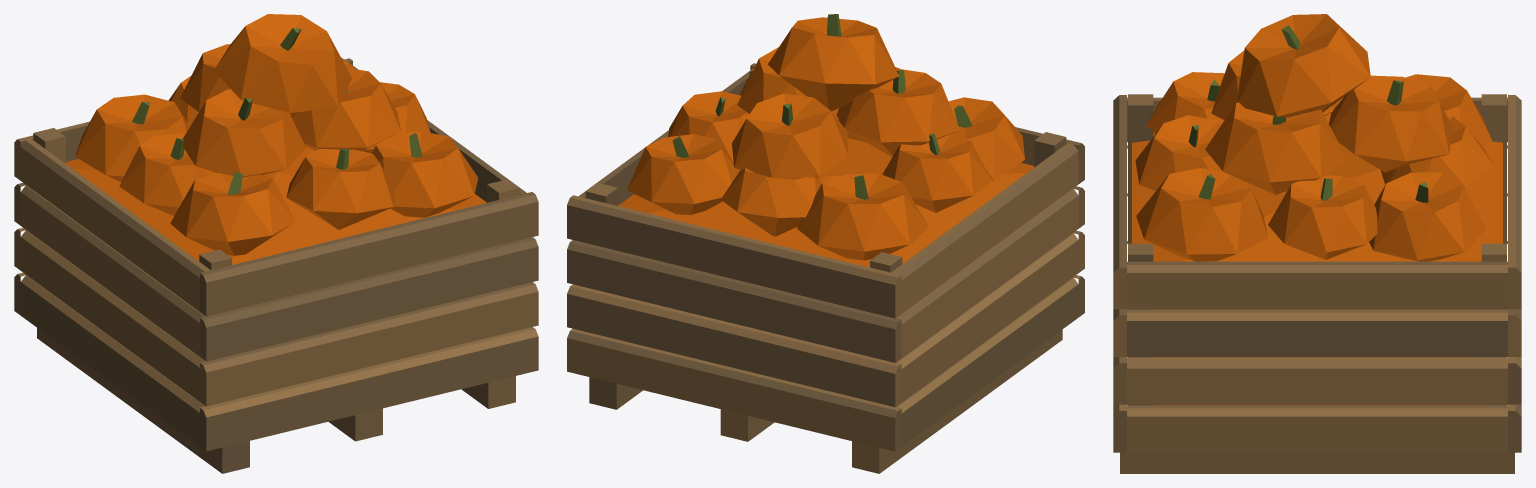
Rendered from pumpkin-bin-5177e8.glb.
3 views of the same model, side by side, from view 1: azimuth 30°, elevation 25°; view 2: azimuth 150°, elevation 25°; view 3: azimuth 270°, elevation 25° (orthographic). The views are drawn at different scales.
Parts seen in each view (by area): view 1: pumpkin-bin-body; view 2: pumpkin-bin-body; view 3: pumpkin-bin-body.
Part boxes in pixels (<box>): pumpkin-bin-body: <box>14,14,538,473</box>; pumpkin-bin-body: <box>567,14,1084,473</box>; pumpkin-bin-body: <box>1113,14,1521,473</box>.
Size of the model in its own units: 1.2 by 1.21 by 1.2.
